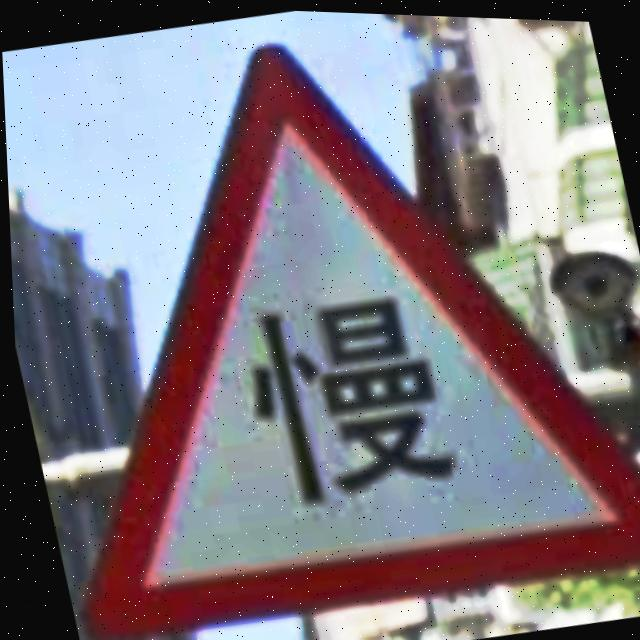slow: (76, 38, 640, 640)
